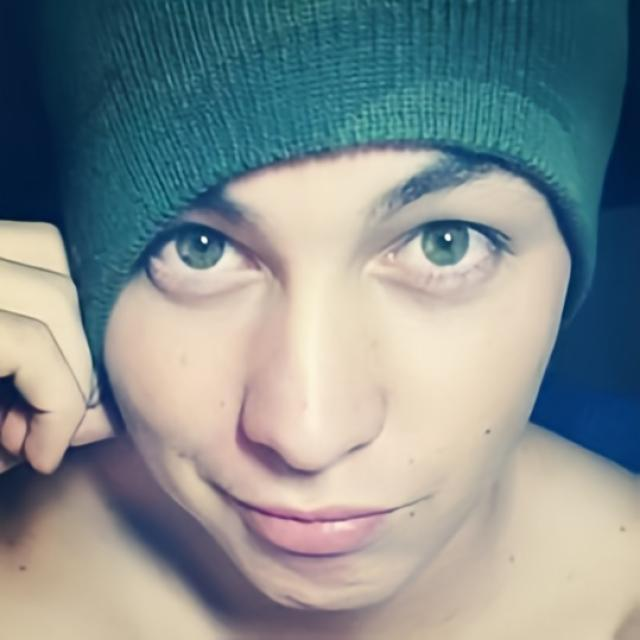content: (101, 136, 576, 612)
